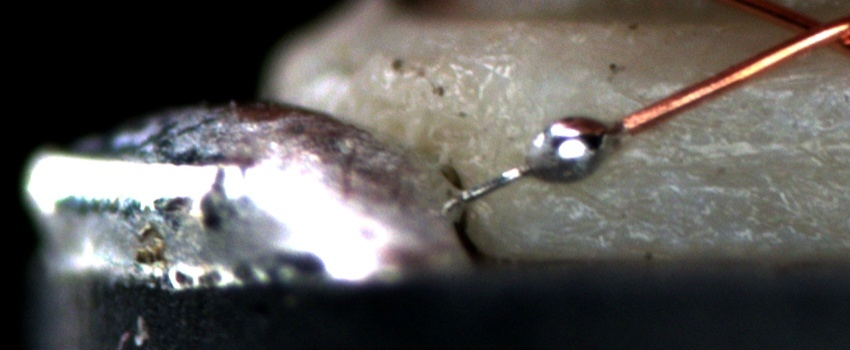CL: (771, 5, 849, 59)
DL: (615, 130, 850, 194), (685, 51, 850, 115)
TB: (520, 109, 622, 186)
TS: (464, 118, 623, 199)
TTCW: (457, 101, 661, 205)
